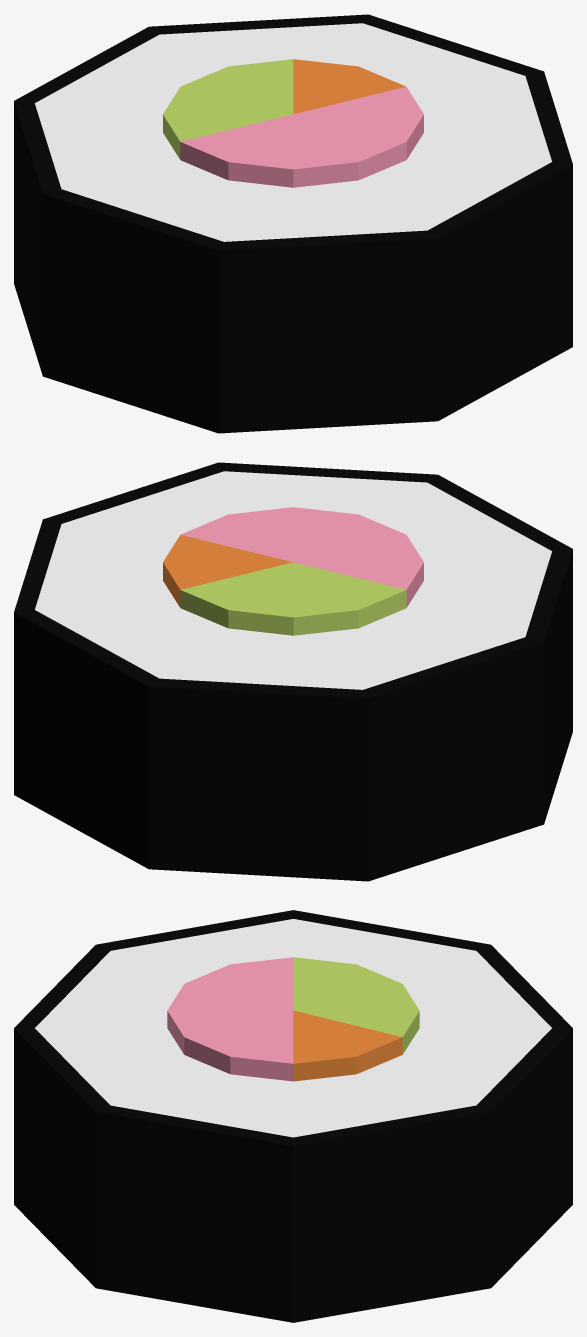
File: sushi_03.fbx
3 views of the same model, one above another, from view 1: azimuth 30°, elevation 25°; view 2: azimuth 150°, elevation 25°; view 3: azimuth 270°, elevation 25° (orthographic). The views are drawn at different scales.
Parts seen in each view (by area): view 1: Cylinder009, Cylinder010; view 2: Cylinder009, Cylinder010; view 3: Cylinder009, Cylinder010.
Part boxes in pixels (x1,y1,x2,y2): Cylinder009: (14,14,572,433); Cylinder010: (163,59,423,187); Cylinder009: (14,462,572,881); Cylinder010: (163,507,423,635); Cylinder009: (14,910,572,1322); Cylinder010: (167,957,419,1081).
Bounding box in the file's own units: 287 × 120 × 287.
Materials: 1 (1 with a texture image).
